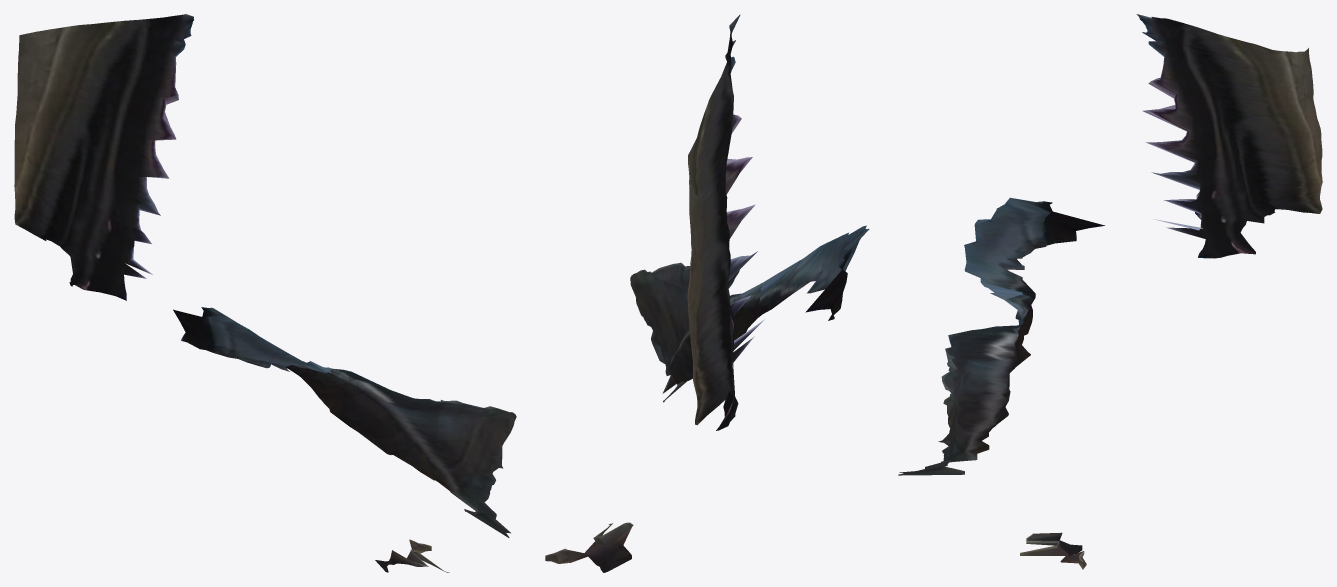
The model's file is observed-surface.glb.
3 views of the same model, side by side, from view 1: azimuth 30°, elevation 25°; view 2: azimuth 150°, elevation 25°; view 3: azimuth 270°, elevation 25° (orthographic). The views are drawn at different scales.
Visible parts, largest first — view 1: geometry_0; view 2: geometry_0; view 3: geometry_0.
Part boxes in pixels (x1,y1,x2,y2): geometry_0: (14, 14, 516, 572); geometry_0: (545, 14, 869, 572); geometry_0: (898, 14, 1322, 569).
Bounding box in the file's own units: 0.4065 × 0.7695 × 0.6242.
1 material, 1 textured.
